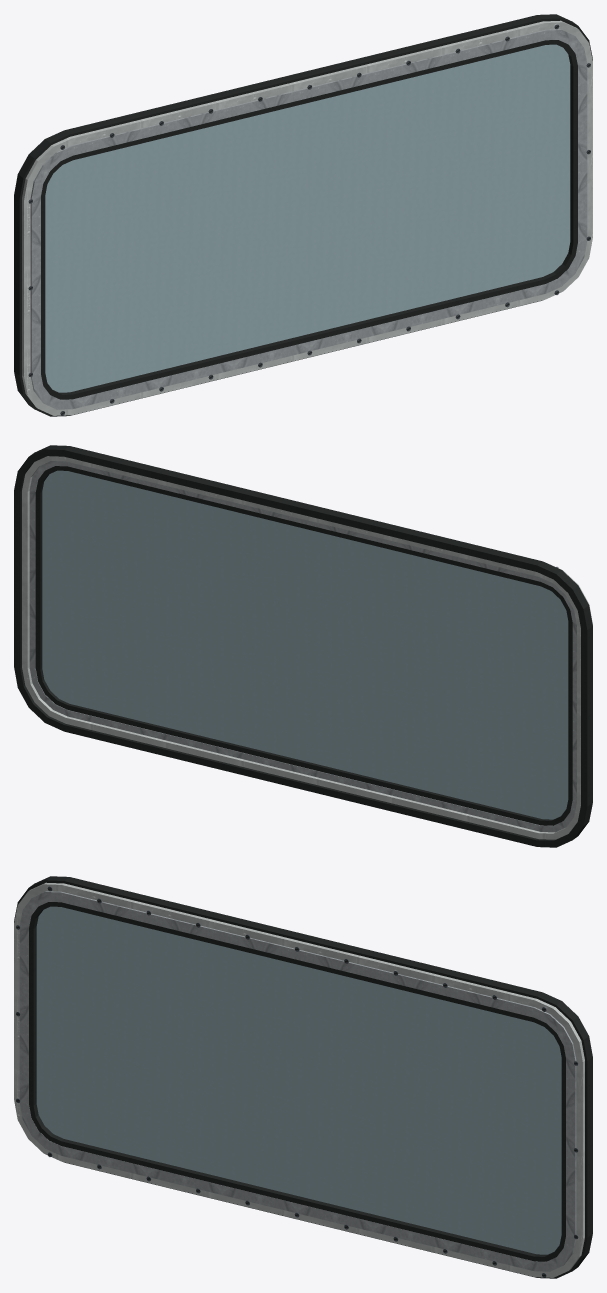
The model's file is prop_window.fbx.
3 views of the same model, one above another, from view 1: azimuth 30°, elevation 25°; view 2: azimuth 150°, elevation 25°; view 3: azimuth 330°, elevation 25° (orthographic).
Parts seen in each view (by area): view 1: SM_prop_window; view 2: SM_prop_window; view 3: SM_prop_window.
Part boxes in pixels (x1,y1,x2,y2): SM_prop_window: (14,14,592,416); SM_prop_window: (14,445,592,847); SM_prop_window: (14,876,592,1278).
Size of the model in its own units: 3.81 by 1.79 by 0.1079.
6 materials, 6 textured.
